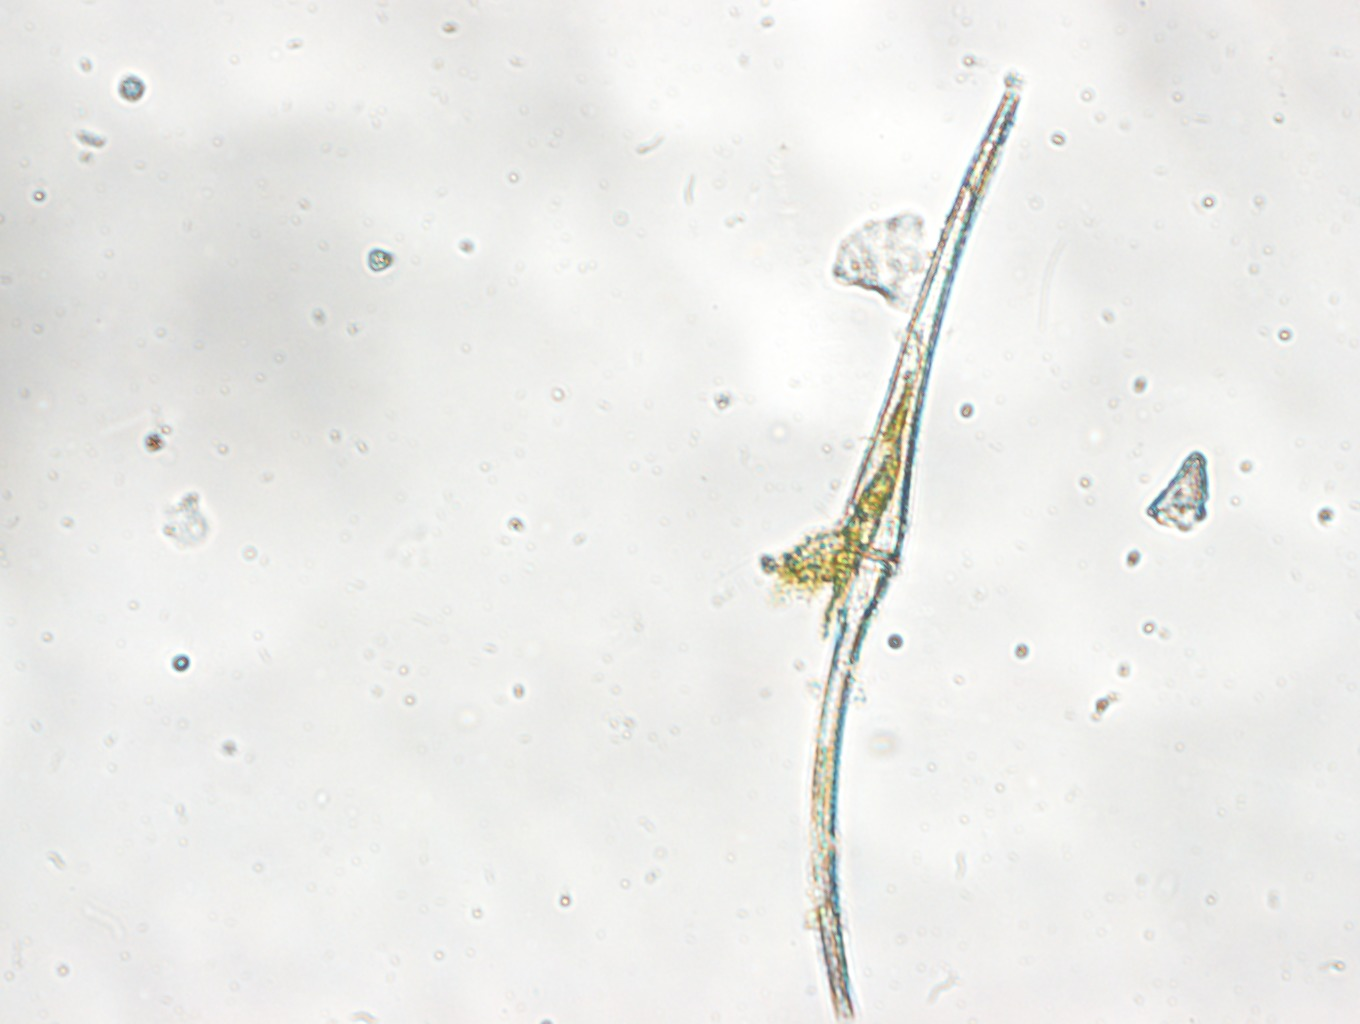ceratium fusus: (774, 77, 1026, 1024)
